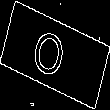O_S: (35, 23, 75, 87)
